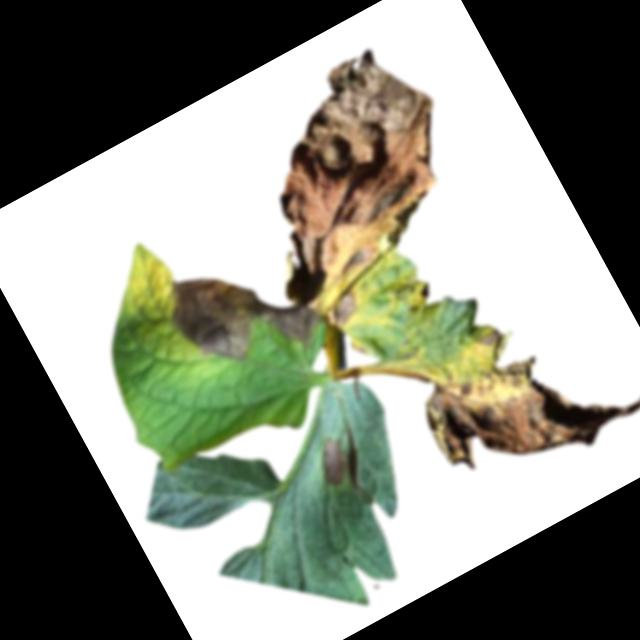Early_blight: (231, 33, 487, 289), (396, 276, 640, 512), (154, 226, 330, 394), (310, 434, 357, 488), (324, 288, 366, 329), (415, 280, 434, 300)
